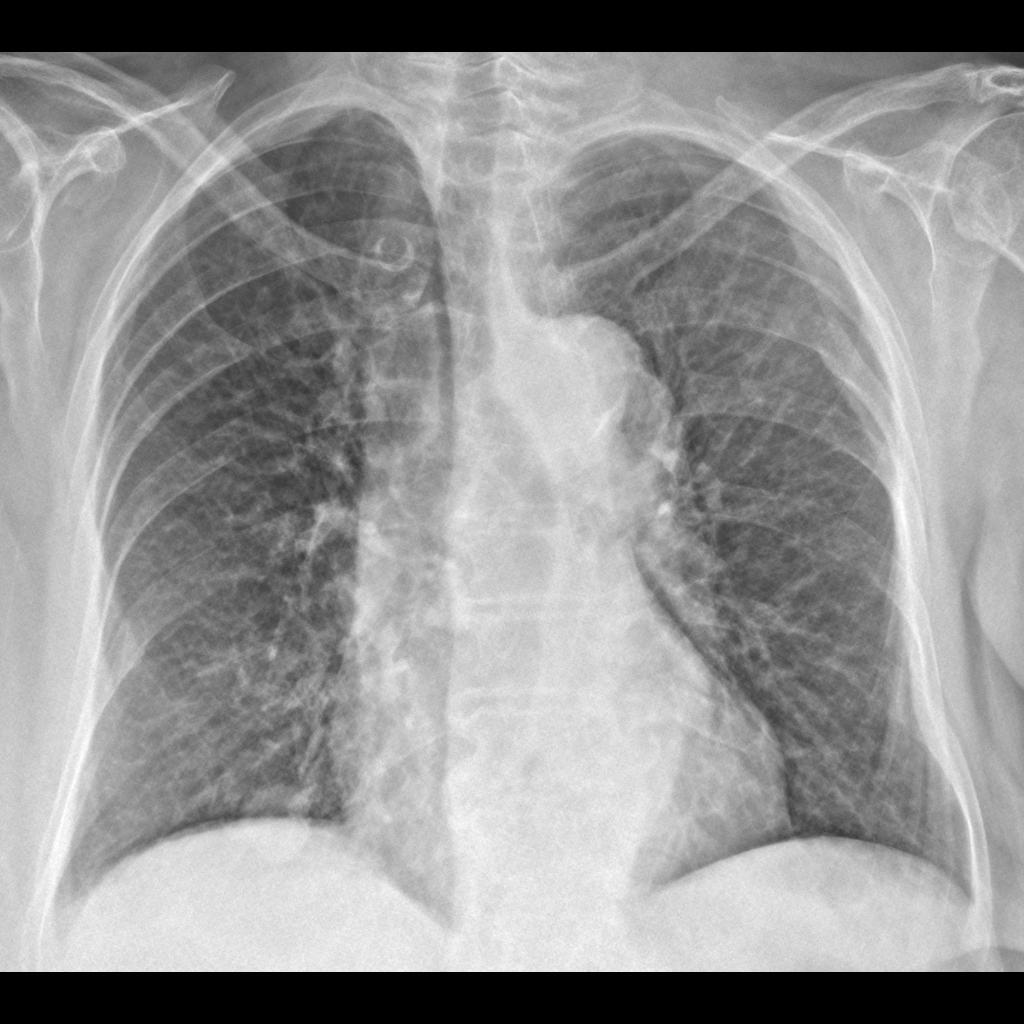Nodule: (237, 779, 320, 886)
